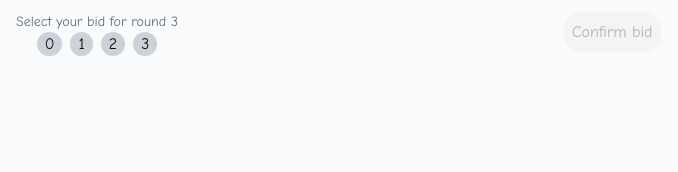
Test: BidSelectionPresenter › Submit Button Behavior › enables confirm button when bid selected and no suit required
Click the button "1". click: (82, 44)
box: [70, 32, 93, 56]
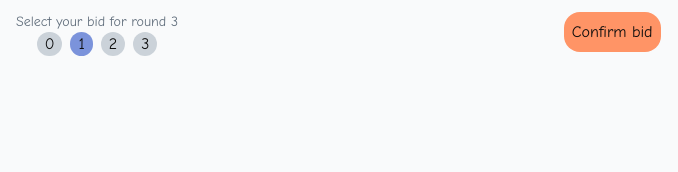
Now the button "Confirm bid" is enabled, box [564, 12, 661, 52]
